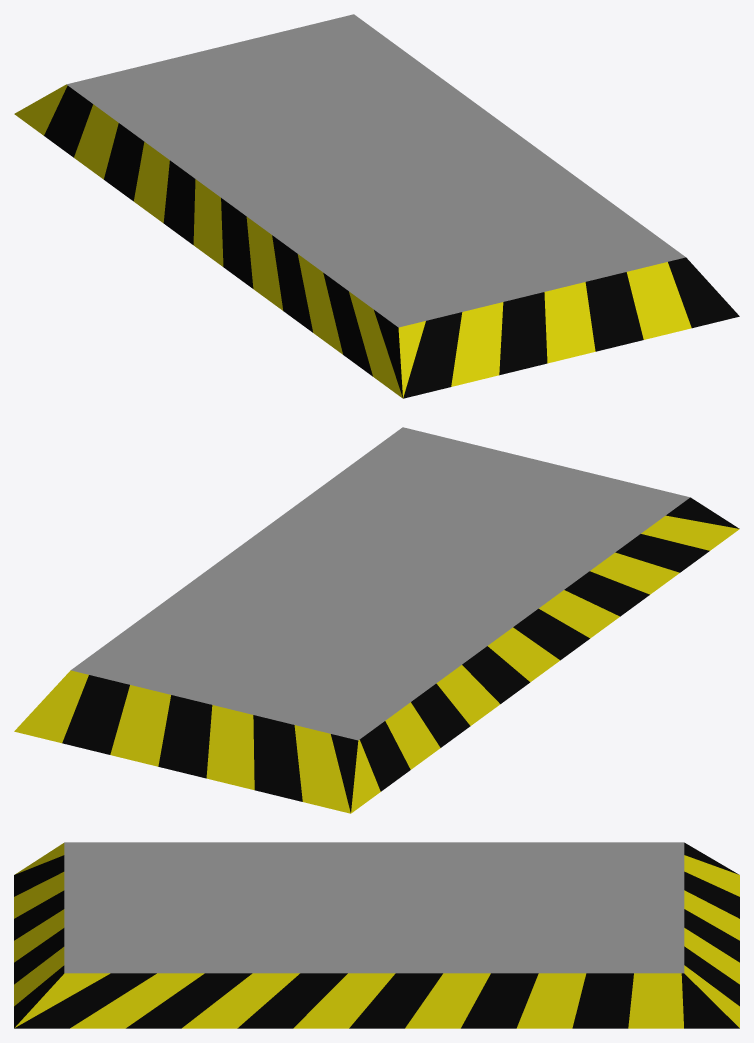
Rendered from FactoryCrush.fbx.
3 renders of one model, top to bottom at view 1: azimuth 30°, elevation 25°; view 2: azimuth 150°, elevation 25°; view 3: azimuth 270°, elevation 25°, orthographic. The views are drawn at different scales.
Parts seen in each view (by area): view 1: Cube; view 2: Cube; view 3: Cube.
Part boxes in pixels (box(x1,y1,x2,y2)): Cube: box(14, 14, 739, 398); Cube: box(14, 427, 739, 813); Cube: box(14, 842, 739, 1028).
Bounding box in the file's own units: 234 × 30.52 × 468.
